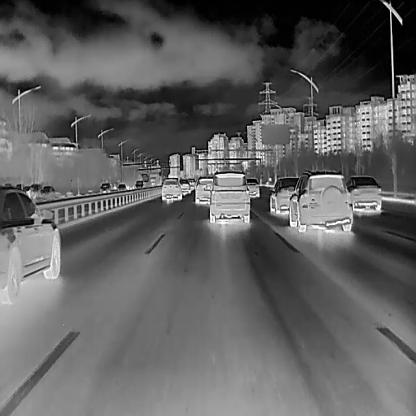car: (0, 184, 60, 306), (286, 169, 353, 231), (201, 168, 250, 223), (344, 175, 381, 215), (268, 176, 301, 214), (194, 174, 214, 204), (160, 176, 182, 201), (244, 176, 260, 197), (178, 177, 190, 195), (39, 184, 56, 196), (27, 182, 40, 195), (133, 178, 145, 190), (115, 182, 127, 193), (99, 182, 110, 193), (188, 177, 196, 189)
truck: (140, 172, 152, 188), (149, 172, 160, 188)
